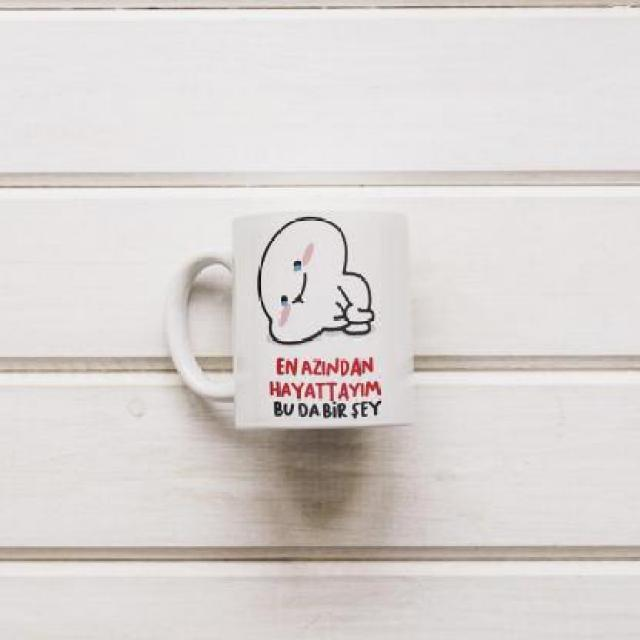taza: (149, 196, 431, 452)
